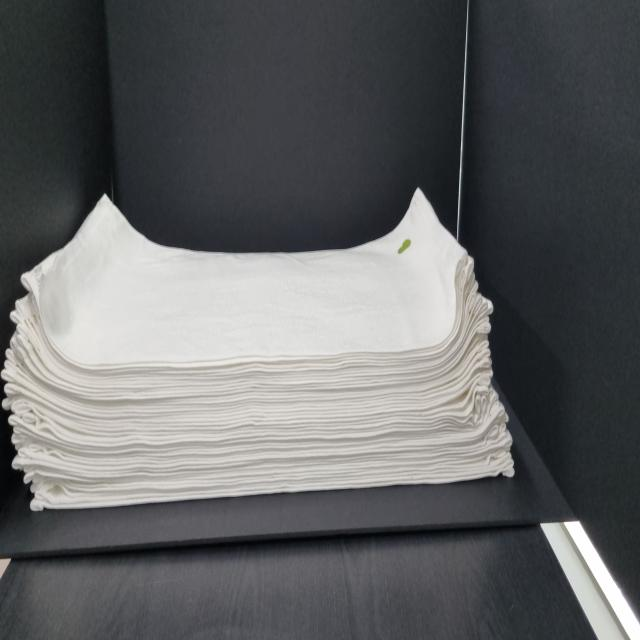not_50count_towel: (2, 180, 521, 517)
